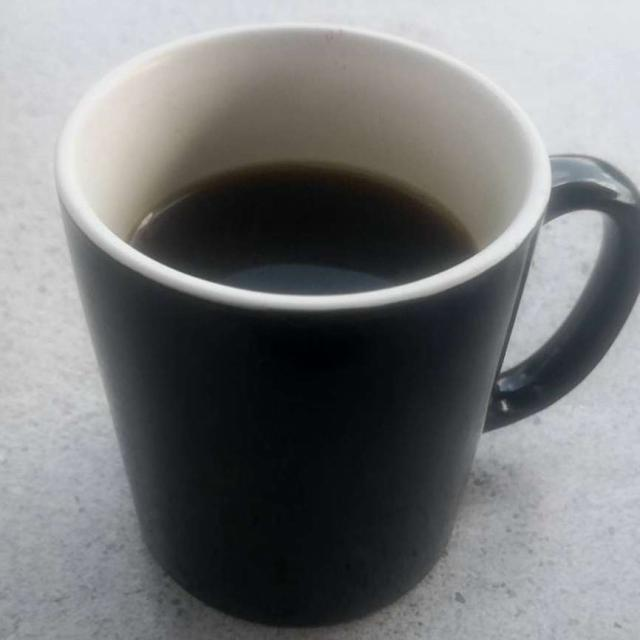coffee: (132, 162, 473, 291)
